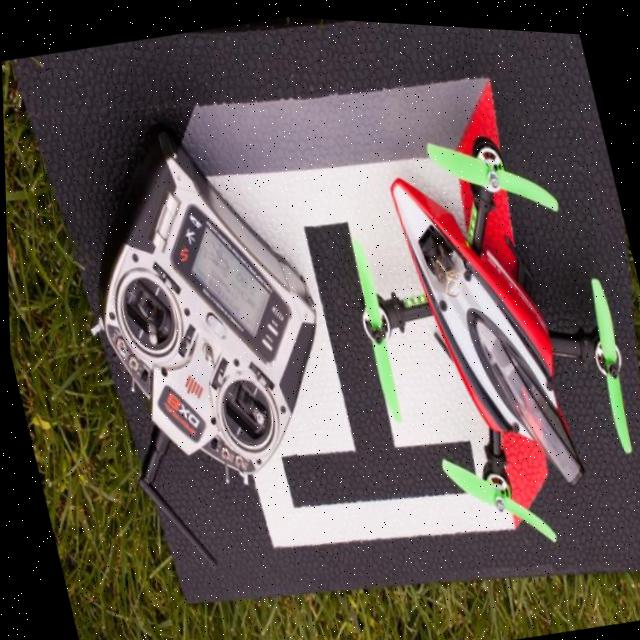drones: (301, 64, 640, 606)
